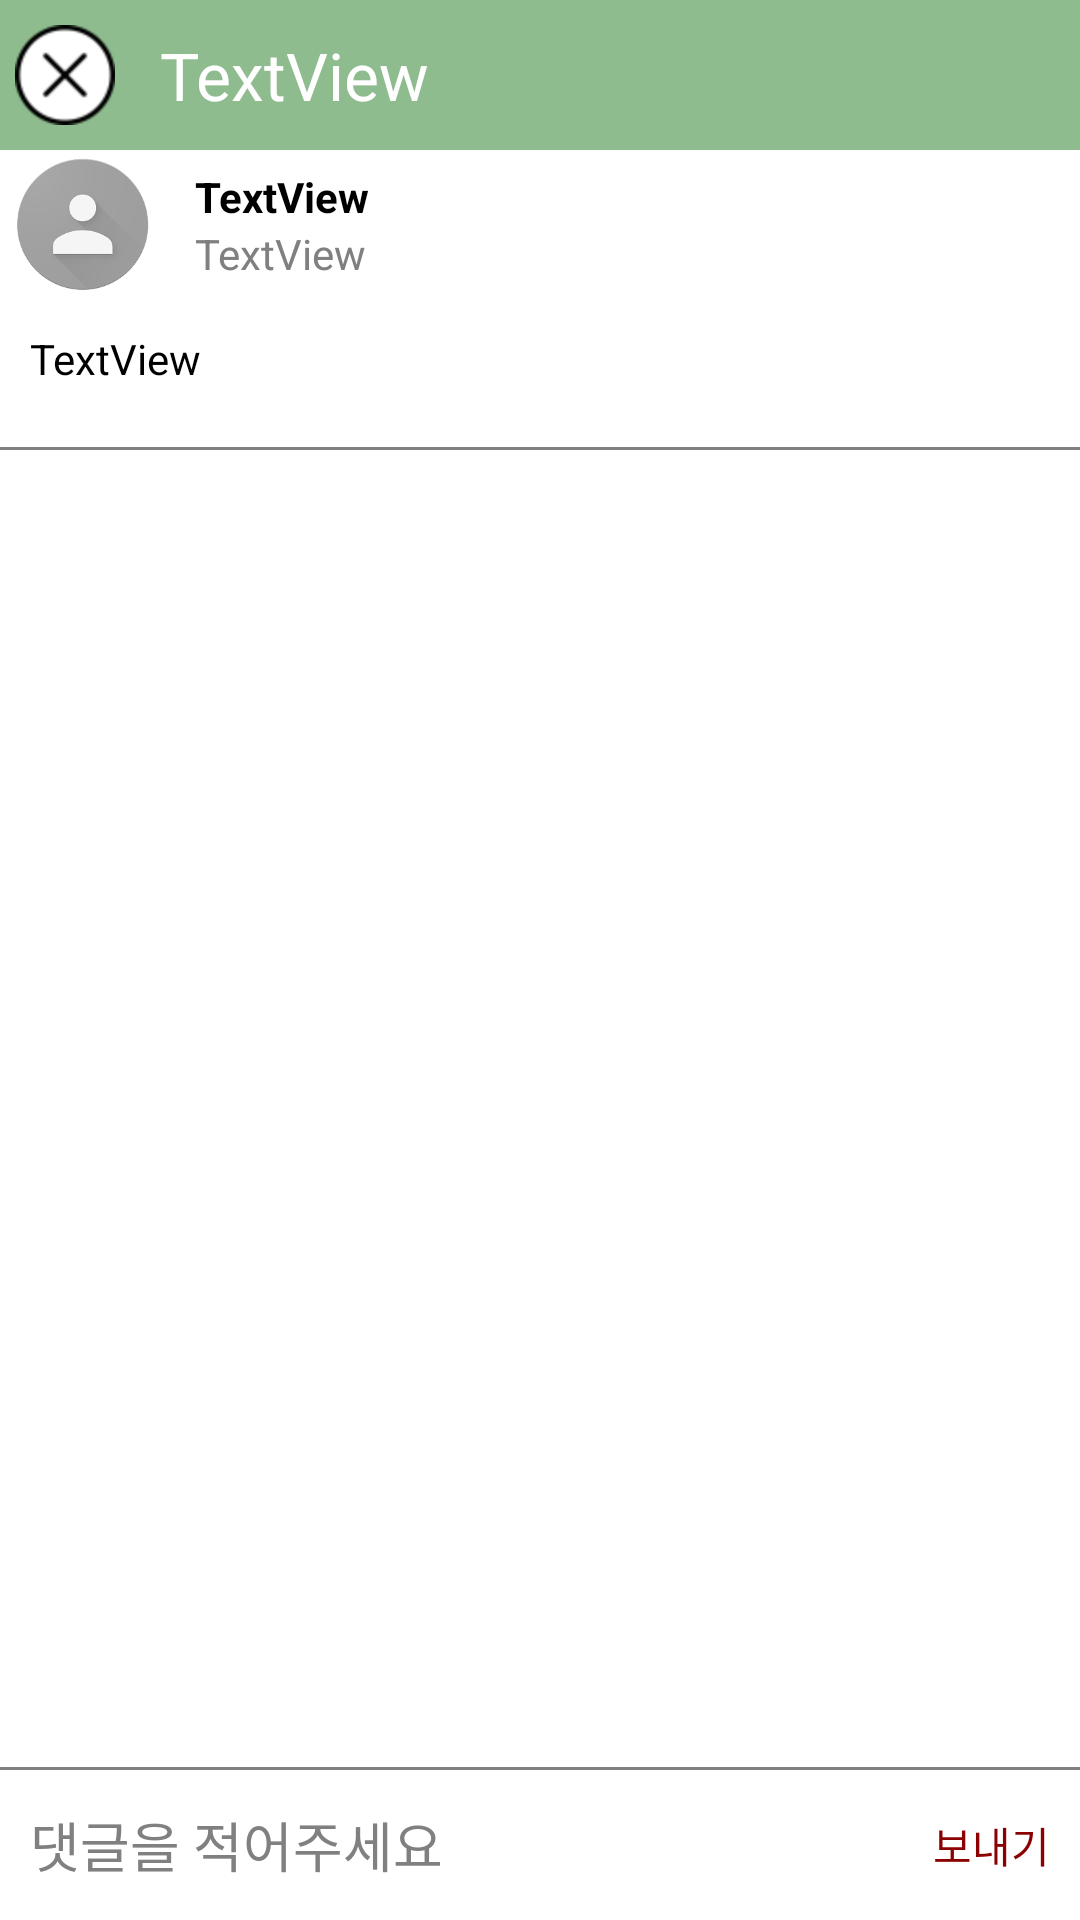

Screen size 1080×1920. Icon name, then its center in pixels as (x,y):
person: (82,224)
xbutton: (65,75)
